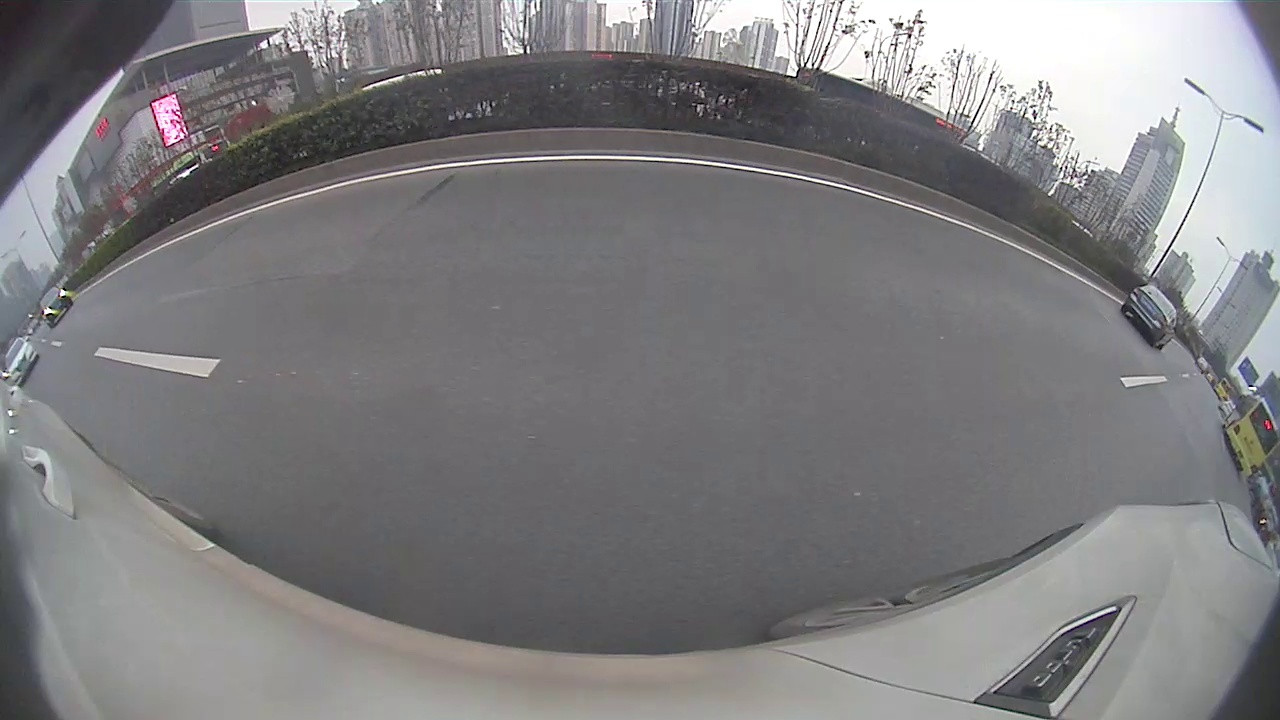bus: (1221, 392, 1277, 477)
car: (1124, 283, 1177, 350), (37, 287, 74, 325)
